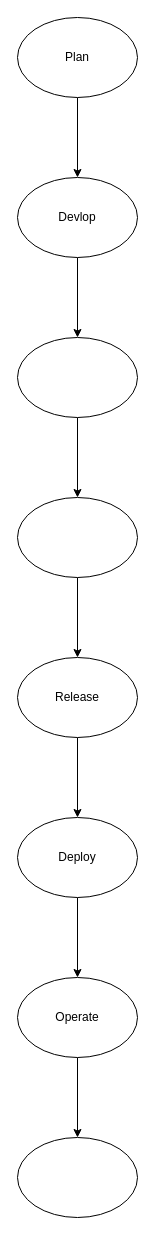
Some shapes in this 155 by 1235 pixel diagram are drawn without their labels. The centre of each missing label's shape, as x and y in pixels:
Build: the point at 77,377
Monitor: the point at 77,1177
Testing: the point at 77,537
